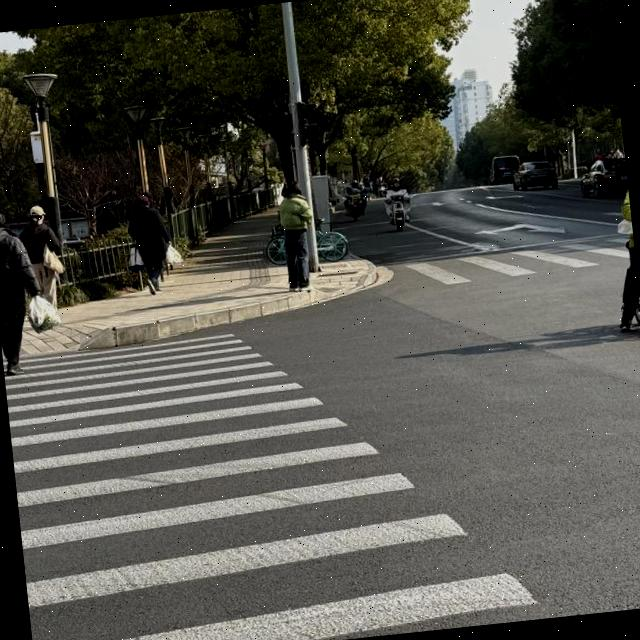curb: (78, 266, 379, 350)
